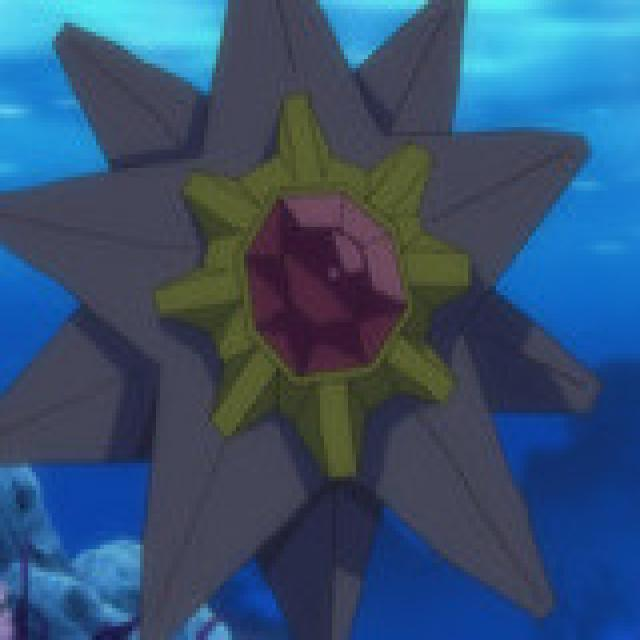Starmie: (0, 0, 565, 620)
